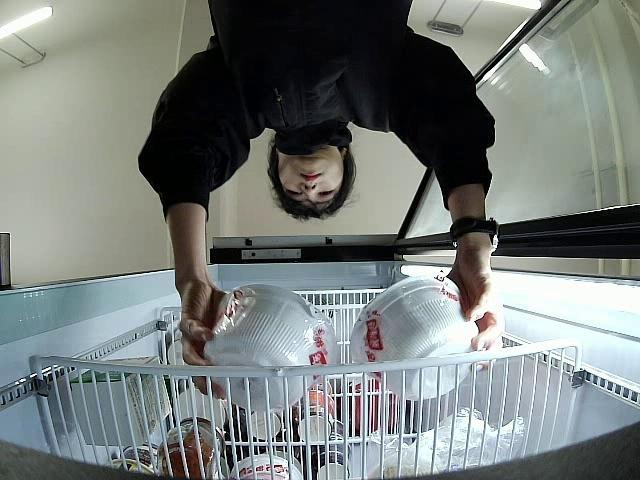09_yukGaeJang: (205, 284, 336, 413), (350, 277, 481, 400)
